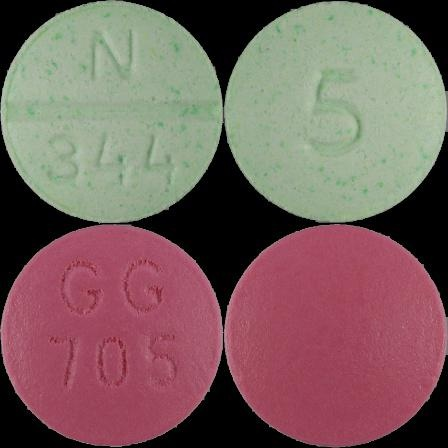51079-873: (0, 0, 224, 224)
